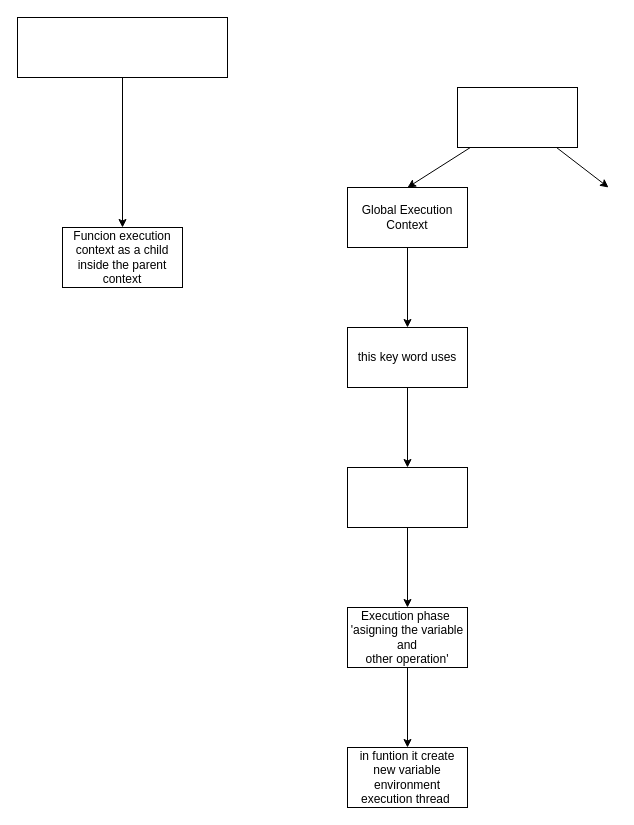
Some shapes in this 634 by 825 pixel diagram are drawn without their labels. Here are the shapes that lost their labels. From the top down, the box of each, then its label:
(16, 16, 228, 78): javascript execution context as a parent
(456, 86, 578, 148): javaScript code created with
(346, 466, 468, 528): Memory phase ' creation of memory and meny more'
